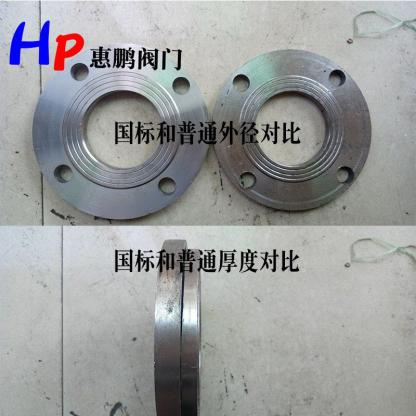FOD: (31, 44, 212, 226), (211, 47, 375, 212), (150, 234, 186, 415), (182, 243, 206, 415)
